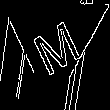M_NW: (25, 5, 83, 72)
